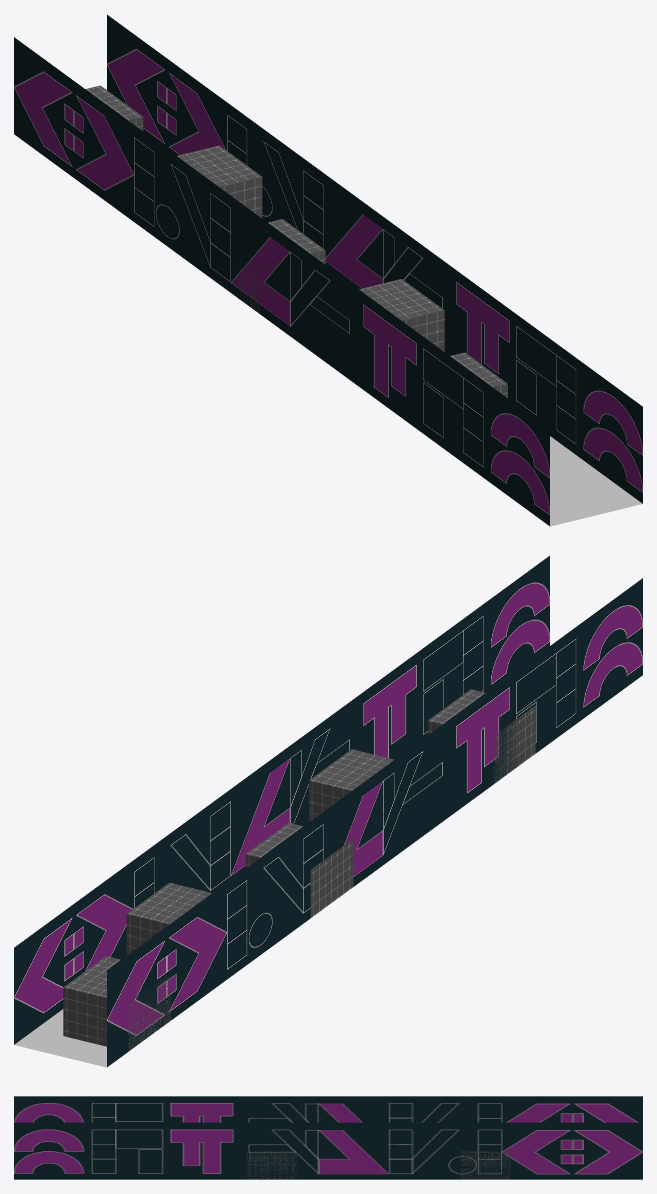
The model's file is Tile00.fbx.
3 renders of one model, top to bottom at view 1: azimuth 30°, elevation 25°; view 2: azimuth 150°, elevation 25°; view 3: azimuth 270°, elevation 25°, orthographic. The views are drawn at different scales.
Visible parts, largest first — view 1: WallRight, WallLeft, Ground, pCube3, pCube5, pCube4, pCube2, pCube6; view 2: WallRight, WallLeft, pCube2, pCube4, pCube6, pCube3, pCube5, Ground; view 3: WallLeft, WallRight, pCube5, pCube3.
Part boxes in pixels (bbox=[...]): WallRight: bbox=[14, 37, 549, 526]; WallLeft: bbox=[107, 14, 642, 503]; Ground: bbox=[550, 436, 642, 526]; pCube3: bbox=[177, 145, 262, 218]; pCube5: bbox=[359, 279, 444, 351]; pCube4: bbox=[220, 219, 325, 312]; pCube2: bbox=[36, 85, 143, 174]; pCube6: bbox=[401, 352, 507, 430]; WallRight: bbox=[107, 578, 642, 1067]; WallLeft: bbox=[14, 555, 549, 1044]; pCube2: bbox=[63, 956, 171, 1051]; pCube4: bbox=[245, 822, 353, 917]; pCube6: bbox=[428, 689, 535, 783]; pCube3: bbox=[126, 882, 211, 955]; pCube5: bbox=[309, 749, 394, 821]; Ground: bbox=[14, 1009, 106, 1067]; WallLeft: bbox=[14, 1122, 642, 1179]; WallRight: bbox=[14, 1096, 642, 1122]; pCube5: bbox=[246, 1151, 296, 1179]; pCube3: bbox=[460, 1151, 510, 1179].
Size of the model in its own units: 10 by 10 by 100.
